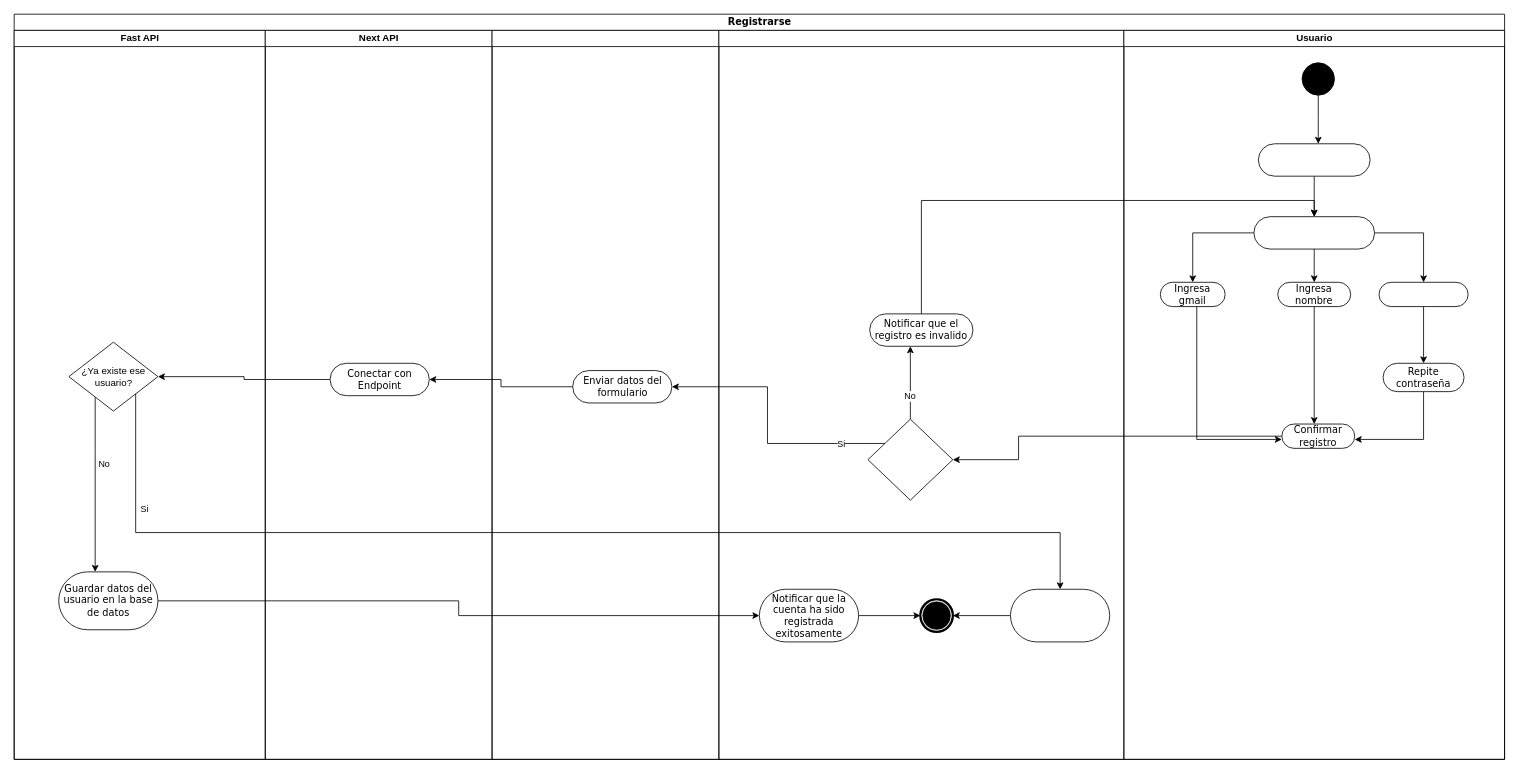
Image size: 1519x774. Some labels were removed from this diagram. The shapes that lost their labels are listed below. From the top down, each one's box as (x1, y1, x2, y2) in pixels, then its label:
(1258, 143, 1370, 176): Entra a la pagina de registro
(1253, 216, 1375, 249): Rellenar formulario de registro
(1378, 281, 1468, 307): Ingresa contaseña
(491, 30, 719, 759): register
(718, 30, 1124, 759): App
(867, 418, 953, 500): ¿Los datos son validos para el registro?
(1010, 588, 1110, 642): Notificar que la cuenta ya existe
